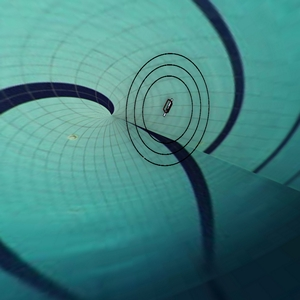circle: (112, 34, 233, 176)
submarine: (157, 97, 179, 121)
